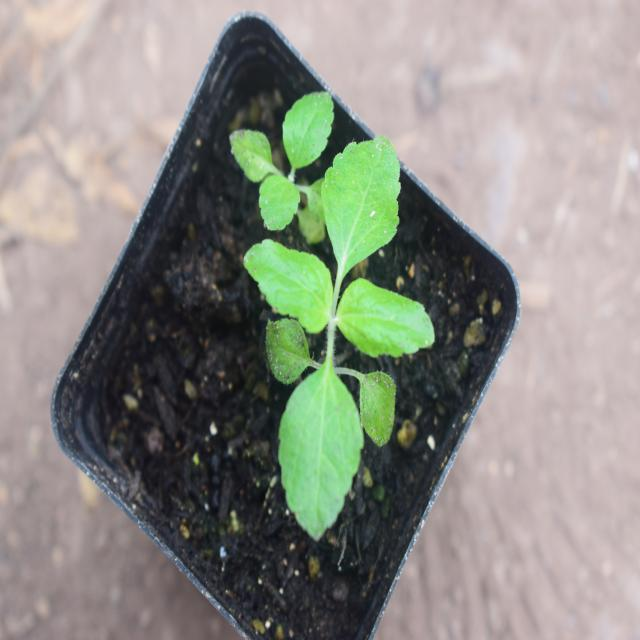billygoat_weed: (254, 129, 425, 520)
